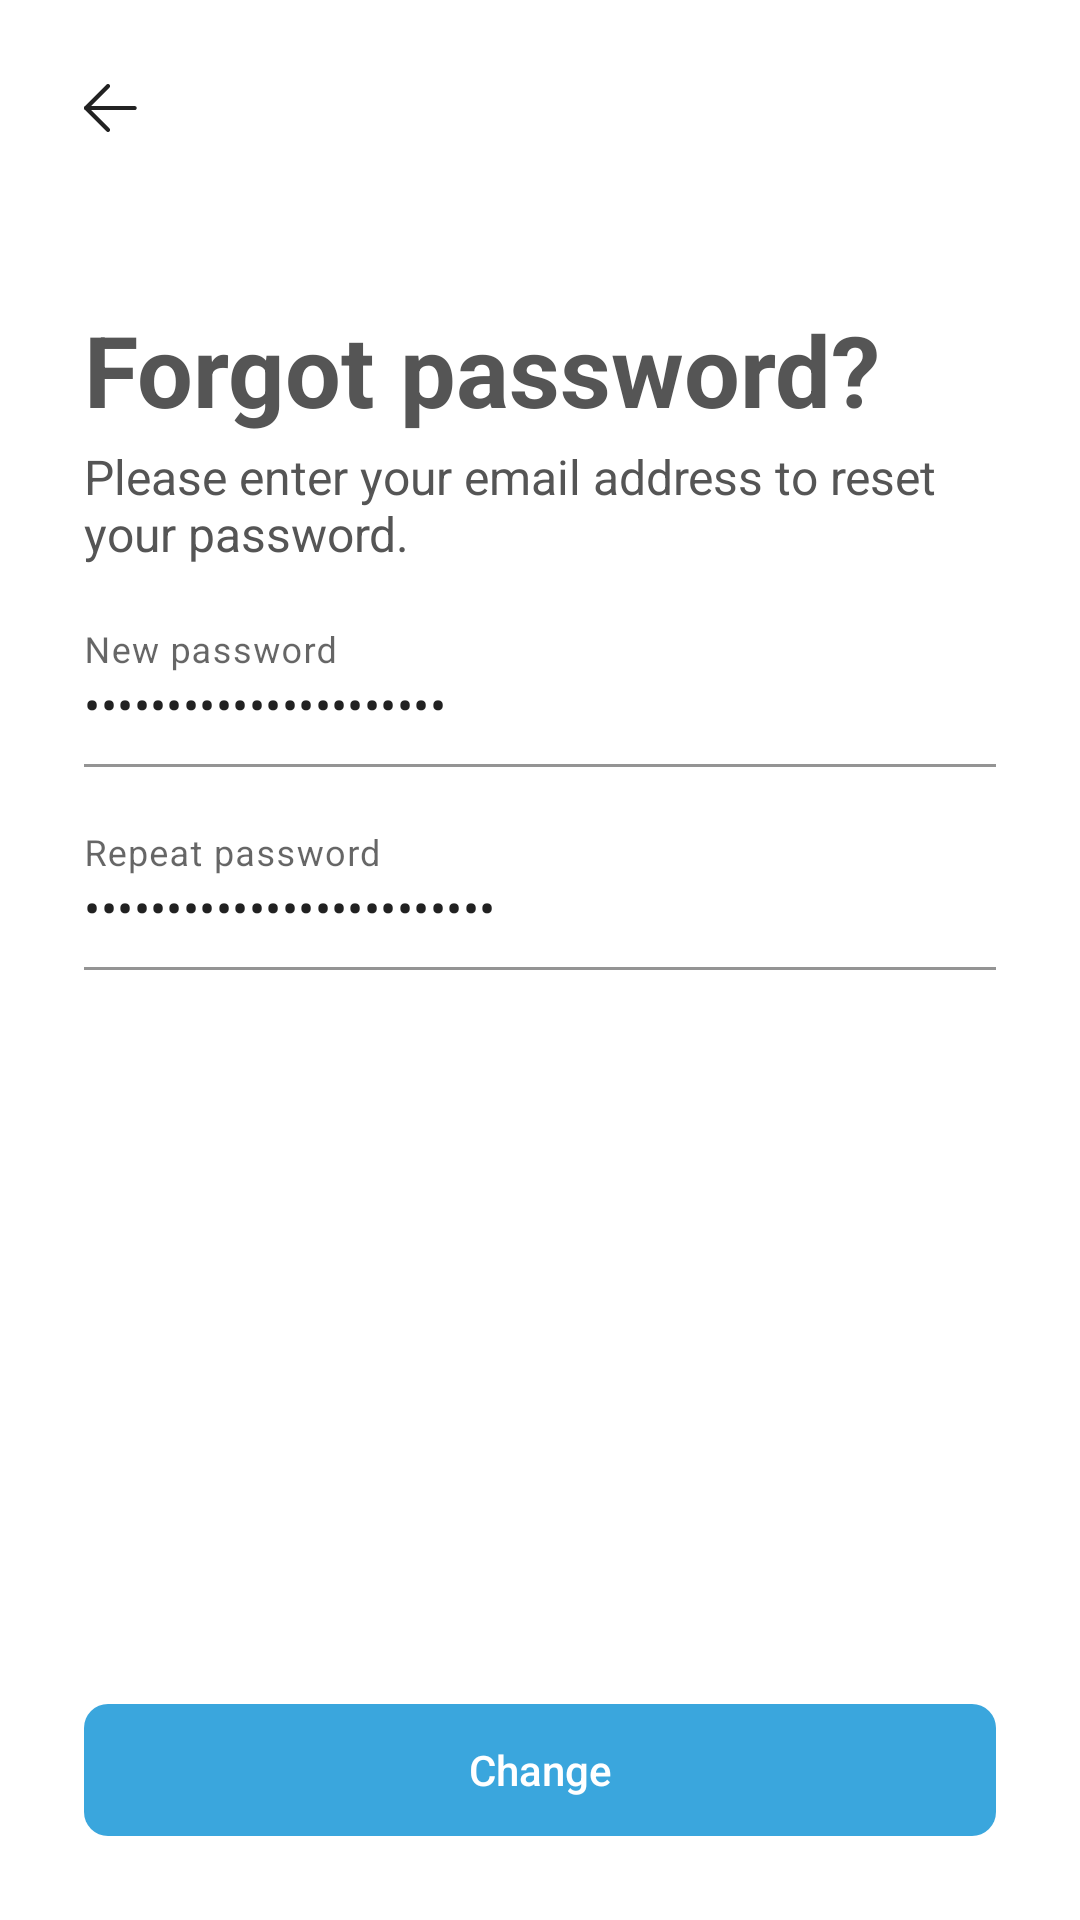

Screen size 1080x1920. Icon name, then its box in pixels as (x1, y1, x2, y2):
arrow: (84, 84, 137, 132)
